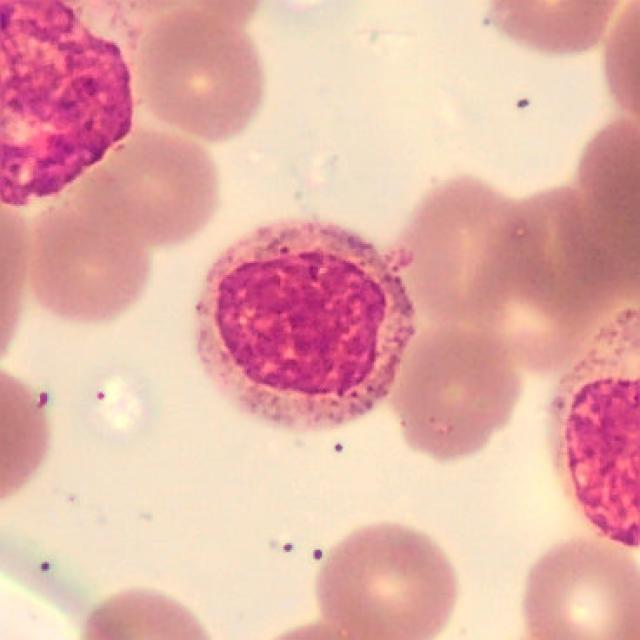Mielocito: (193, 220, 416, 434)
